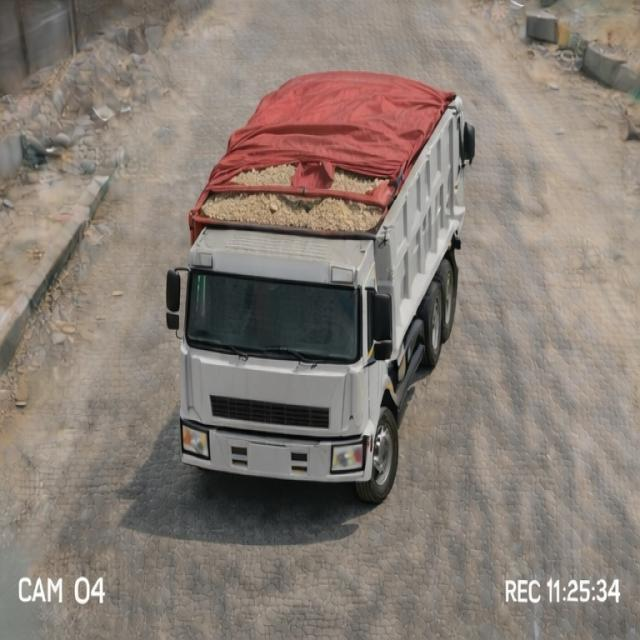Box: (171, 70, 477, 244)
Truck: (164, 59, 507, 505)
